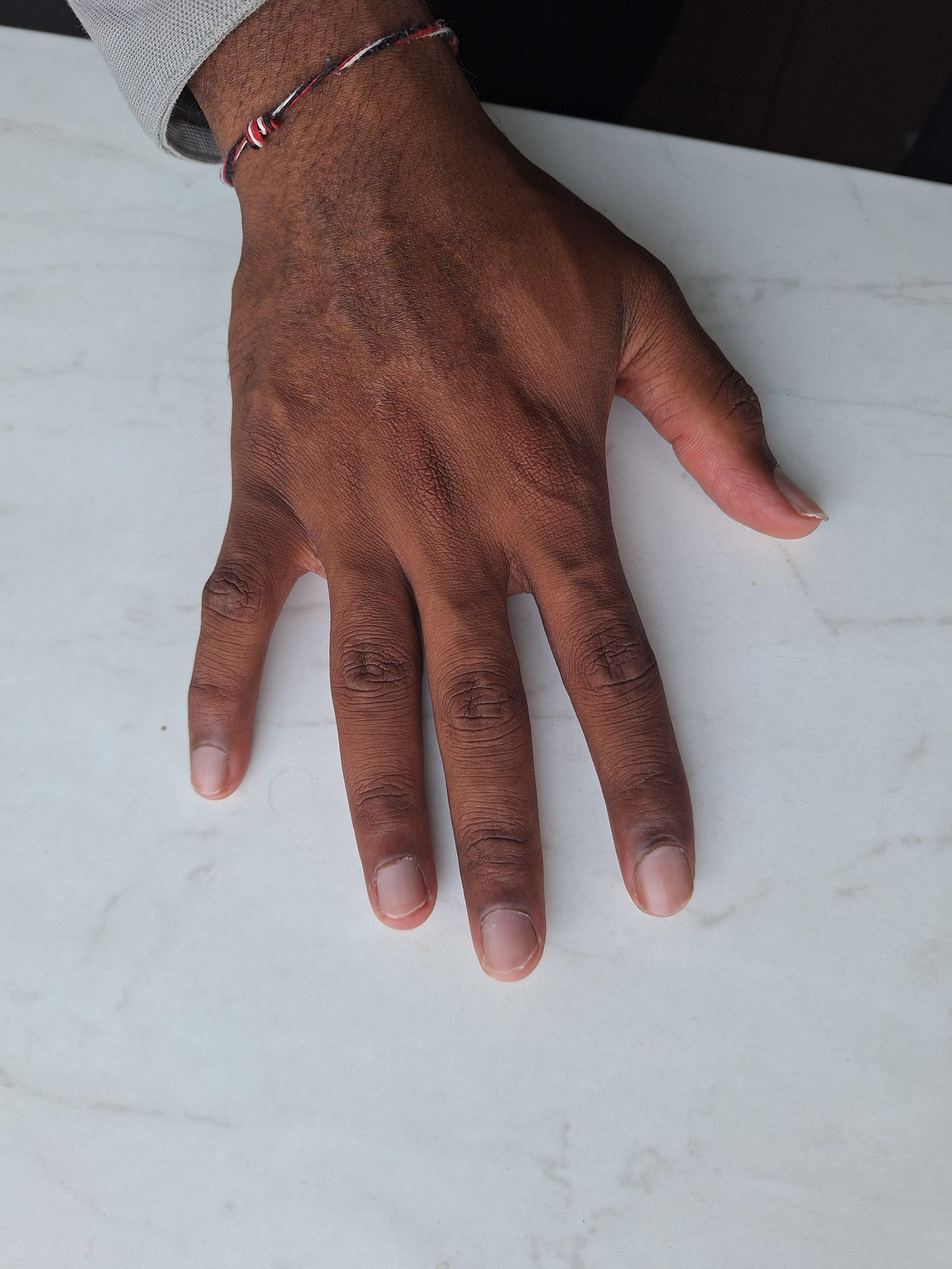Fingernail: (636, 847, 693, 916), (481, 910, 539, 973), (377, 859, 429, 918), (775, 464, 829, 520), (191, 746, 229, 794)
